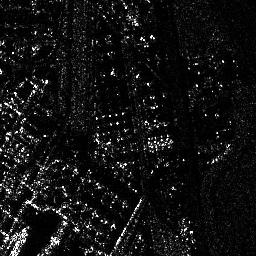ship: (7, 225, 29, 256)
